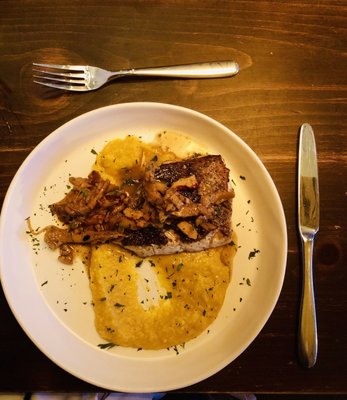sandwich: (28, 59, 247, 94), (296, 123, 320, 388)
sushi: (1, 97, 303, 393)
